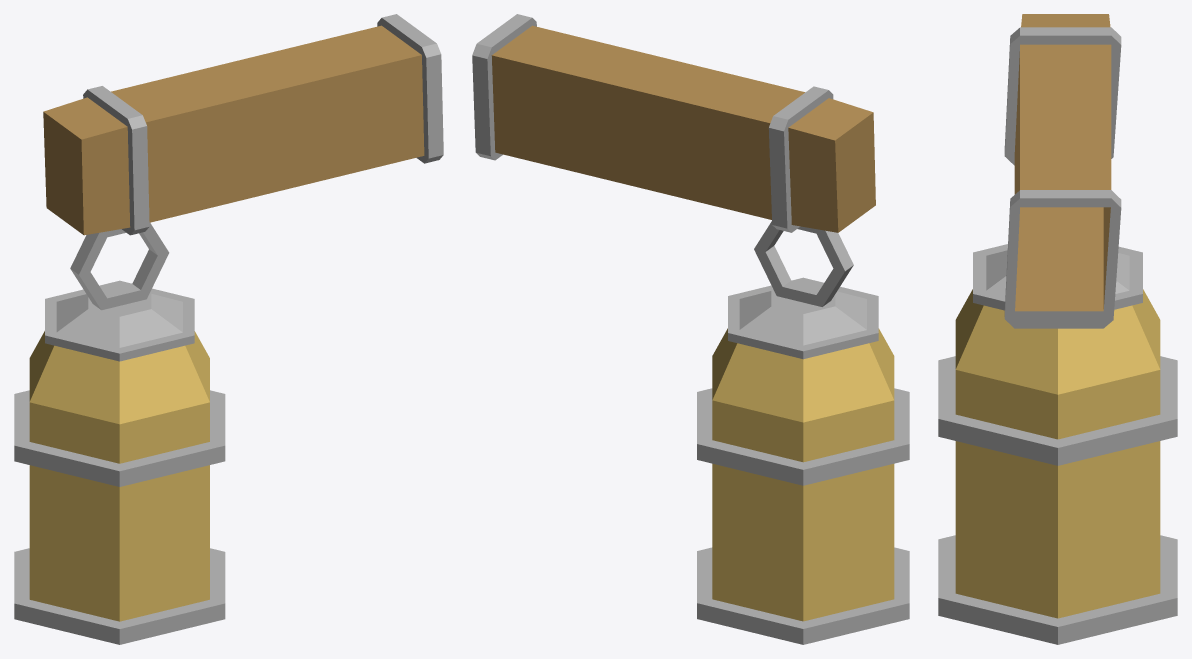
File: Lamp_Wall.fbx
3 renders of one model, left to right at view 1: azimuth 30°, elevation 25°; view 2: azimuth 150°, elevation 25°; view 3: azimuth 270°, elevation 25°, orthographic. The views are drawn at different scales.
Parts seen in each view (by area): view 1: Lamp_wall; view 2: Lamp_wall; view 3: Lamp_wall.
Part boxes in pixels (<box>): Lamp_wall: <box>14,14,443,644</box>; Lamp_wall: <box>472,14,909,644</box>; Lamp_wall: <box>938,14,1177,644</box>.
Bounding box in the file's own units: 67.3 × 77.41 × 30.31.
